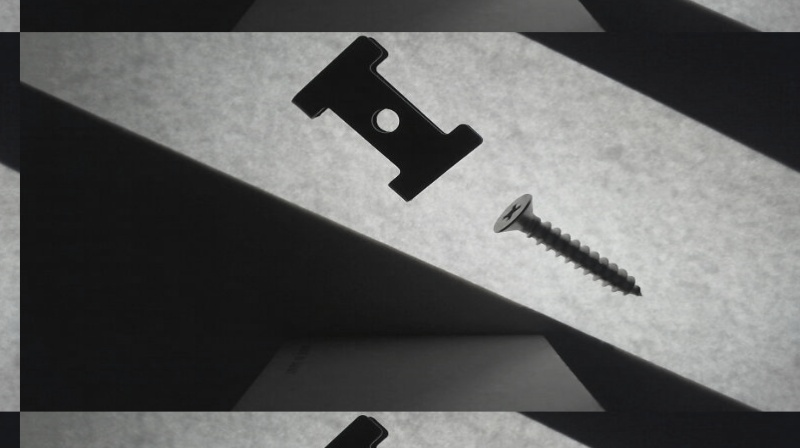O002: (289, 35, 483, 203)
S001: (490, 191, 645, 299)
